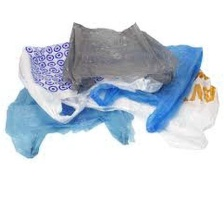plastic_bag: (6, 30, 164, 118), (80, 36, 211, 135), (4, 78, 140, 161), (106, 61, 221, 153), (58, 18, 185, 86)
